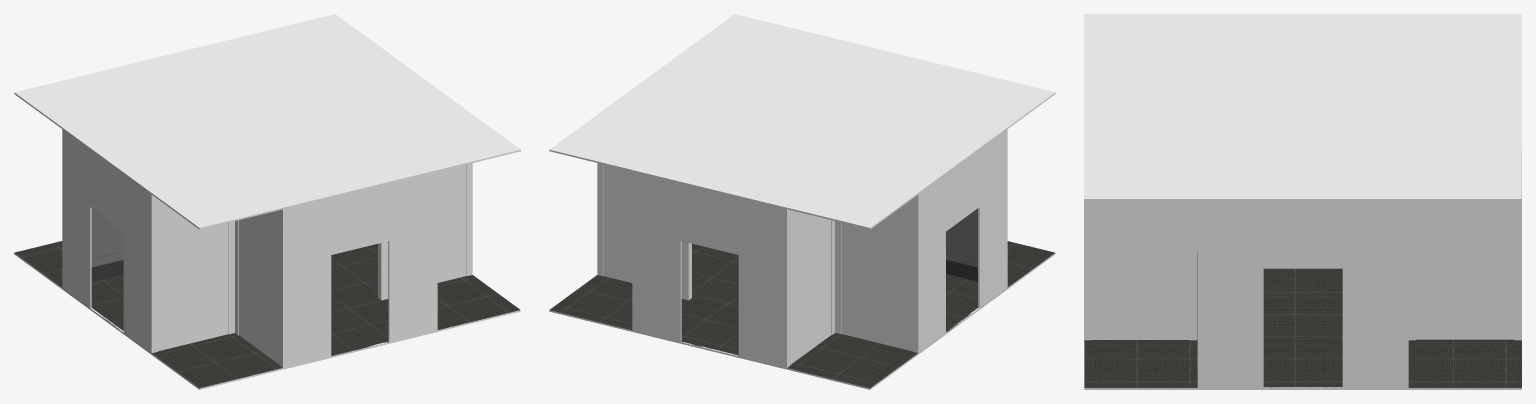
Rendered from CZXCross.fbx.
3 renders of one model, left to right at view 1: azimuth 30°, elevation 25°; view 2: azimuth 150°, elevation 25°; view 3: azimuth 270°, elevation 25°, orthographic. The views are drawn at different scales.
Parts seen in each view (by area): view 1: node_id62, node_id29, node_id20 (×2), node_id39, node_id36, node_id65 (×7), node_id23, node_id52, node_id33 (×2); view 2: node_id62, node_id49, node_id20 (×2), node_id39, node_id33, node_id65 (×7), node_id46, node_id55, node_id36 (×2); view 3: node_id62, node_id58, node_id20 (×2), node_id26, node_id43, node_id65 (×5), node_id49, node_id29, node_id55, node_id52.
Part boxes in pixels (x1,y1,x2,y2): node_id62: (14,14,520,229); node_id29: (282,169,437,369); node_id20 (×2): (14,241,520,389); node_id39: (62,127,153,352); node_id36: (150,173,228,352); node_id65 (×7): (62,110,472,368); node_id23: (239,174,284,369); node_id52: (394,114,469,282); node_id33 (×2): (62,109,140,288); node_id62: (549,14,1055,229); node_id49: (632,169,787,369); node_id20 (×2): (549,241,1055,389); node_id39: (916,127,1007,352); node_id33: (841,173,919,351); node_id65 (×7): (597,110,924,367); node_id46: (785,174,830,368); node_id55: (601,115,675,282); node_id36 (×2): (929,109,1007,288); node_id62: (1084,14,1521,200); node_id58: (1197,198,1408,389); node_id20 (×2): (1084,251,1521,389); node_id26: (1086,149,1189,339); node_id43: (1416,149,1519,339); node_id65 (×5): (1084,144,1521,389); node_id49: (1519,62,1521,340); node_id29: (1084,62,1086,341); node_id55: (1405,154,1407,389); node_id52: (1198,154,1200,389).
Size of the model in its own units: 0.512 by 0.2467 by 0.5123.
Materials: 47 (14 with a texture image).
